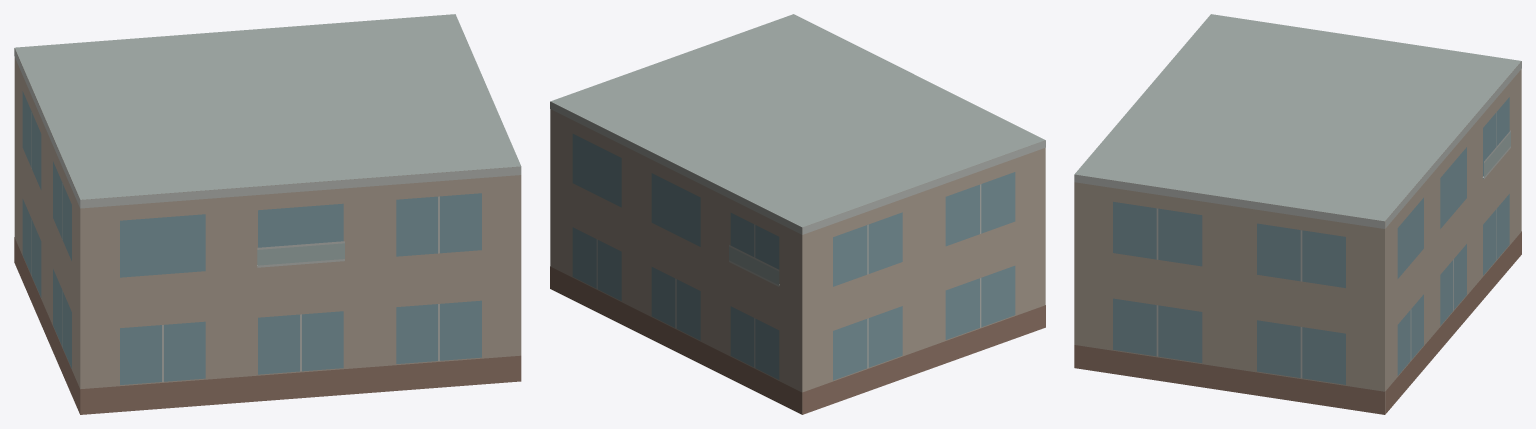
Rendered from survey-upis-32713084.glb.
The picture shows the model from 3 angles, left to right: view 1: azimuth 30°, elevation 25°; view 2: azimuth 150°, elevation 25°; view 3: azimuth 270°, elevation 25°; orthographic projection. The views are drawn at different scales.
Visible parts, largest first — view 1: survey-upis-32713084.tmp; view 2: survey-upis-32713084.tmp; view 3: survey-upis-32713084.tmp.
Boxes of the visible parts, x1,y1,x2,y2 form: survey-upis-32713084.tmp: (14, 14, 521, 414); survey-upis-32713084.tmp: (550, 14, 1045, 414); survey-upis-32713084.tmp: (1074, 14, 1521, 414).
Bounding box in the file's own units: 14.02 × 6.1 × 12.79.
